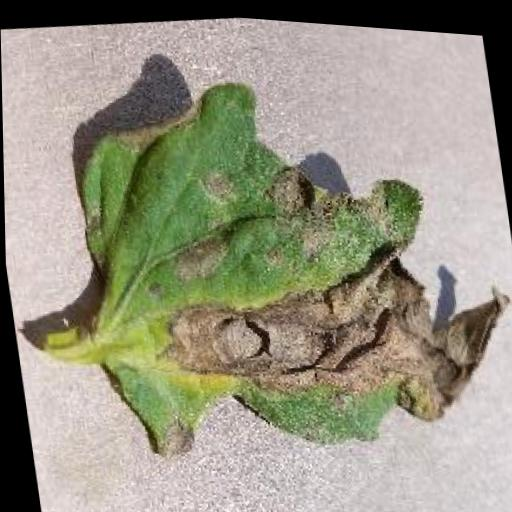Early Blight: (63, 44, 512, 483)
